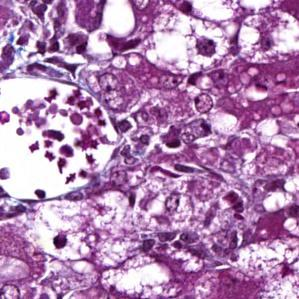ballooning: (142, 11, 230, 79), (235, 9, 298, 67)
